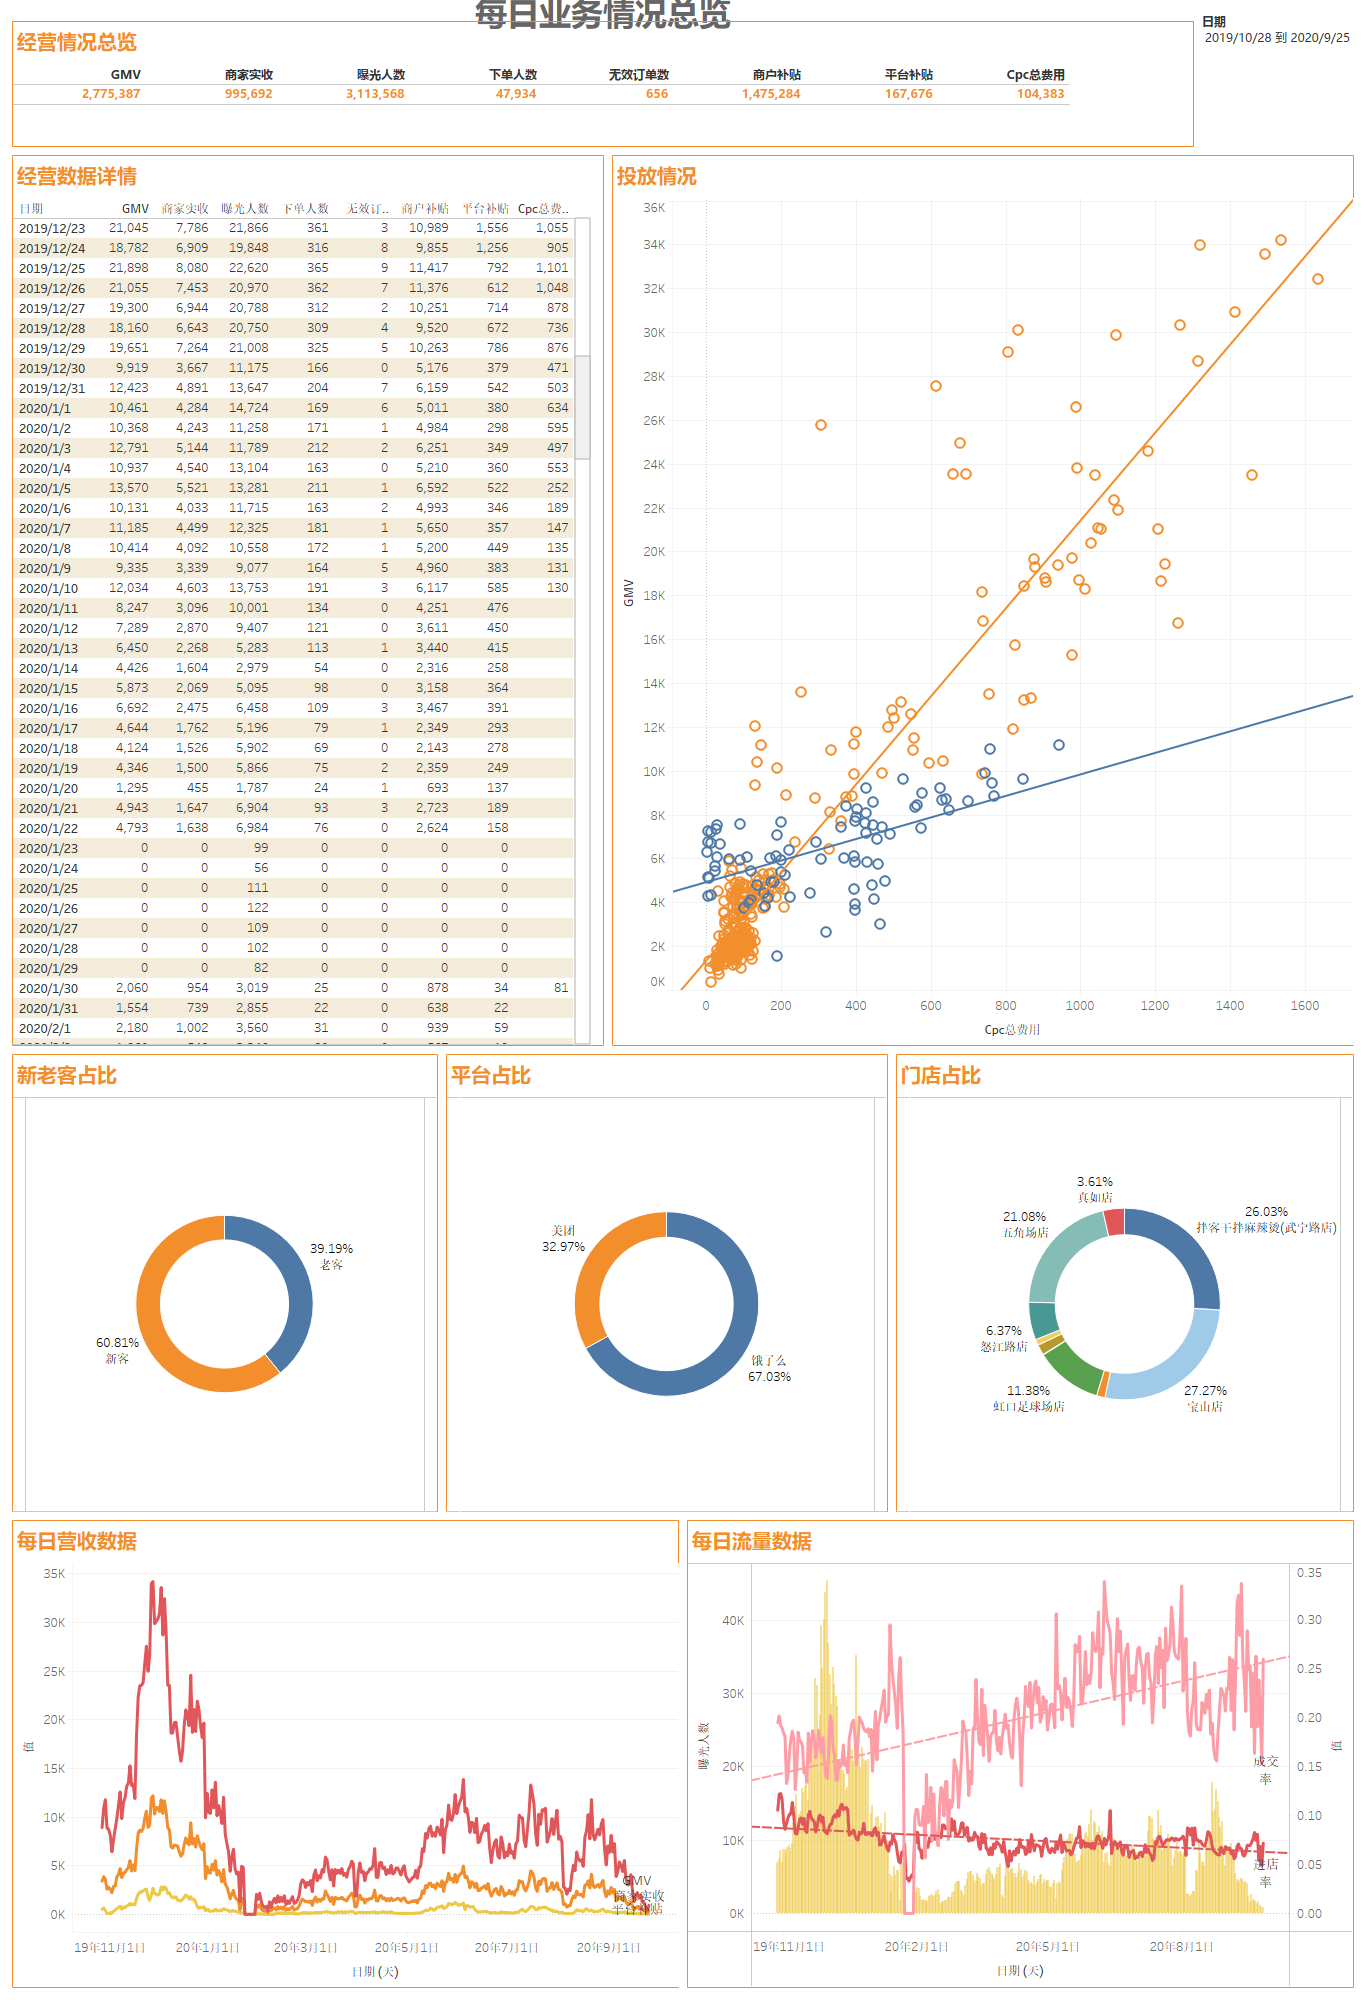

This screenshot's page, from the dashboard's own definition file:
{"tool":"tableau","page":{"name":"每日业务情况总览","canvas":[1366,2000],"ordinal":0},"visuals":[{"type":"text","box":[8,8,1190,8.5]},{"type":"filter","title":"经营情况总览","param":"[federated.1rgcajd0c9b6no12qy9qt15lek9b].[none:日期:qk]","box":[1198,8,160,112]},{"type":"worksheet","title":"经营情况总览","mark":"Automatic","box":[8,16.5,1190,134.5]},{"type":"worksheet","title":"经营数据详情","mark":"Automatic","rows":["日期"],"box":[8,151,600,898.7]},{"type":"worksheet","title":"投放情况","mark":"Automatic","rows":["GMV"],"cols":["cpc总费用"],"box":[608,151,750,898.7]},{"type":"worksheet","title":"新老客占比","mark":"Pie","rows":["Calculation_141863414816911369","Calculation_141863414816923659"],"box":[8,1049.7,434,466.5]},{"type":"worksheet","title":"平台占比","mark":"Pie","rows":["Calculation_141863414816911369","Calculation_141863414816923659"],"box":[442,1049.7,450,466.5]},{"type":"worksheet","title":"门店占比","mark":"Pie","rows":["Calculation_141863414816911369","Calculation_141863414816923659"],"box":[892,1049.7,466,466.5]},{"type":"worksheet","title":"每日营收数据","mark":"Automatic","cols":["日期 (天)"],"box":[8,1516.2,675,475.8]},{"type":"worksheet","title":"每日流量数据","mark":"Automatic","rows":["曝光人数"],"cols":["日期 (天)"],"box":[683,1516.2,675,475.8]}]}

Visuals, with their boxes in screenshot pixels (x1, y1, x2, y2), scaled from the page's 1366x2000 canvas onto the 1366x2000 screenshot:
text: bbox=[8, 8, 1198, 16]
"经营情况总览" filter: bbox=[1198, 8, 1358, 120]
"经营情况总览" worksheet: bbox=[8, 16, 1198, 151]
"经营数据详情" worksheet: bbox=[8, 151, 608, 1050]
"投放情况" worksheet: bbox=[608, 151, 1358, 1050]
"新老客占比" worksheet (Pie marks): bbox=[8, 1050, 442, 1516]
"平台占比" worksheet (Pie marks): bbox=[442, 1050, 892, 1516]
"门店占比" worksheet (Pie marks): bbox=[892, 1050, 1358, 1516]
"每日营收数据" worksheet: bbox=[8, 1516, 683, 1992]
"每日流量数据" worksheet: bbox=[683, 1516, 1358, 1992]
